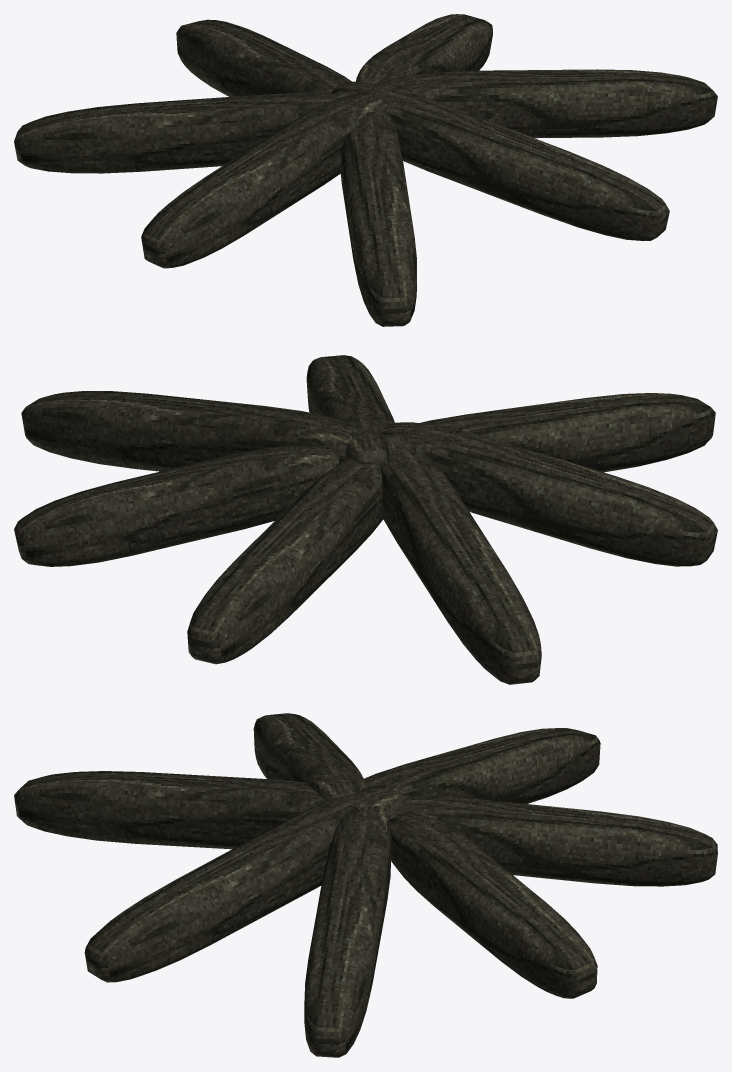
The model's file is Campfire.glb.
The picture shows the model from 3 angles, top to bottom: view 1: azimuth 30°, elevation 25°; view 2: azimuth 150°, elevation 25°; view 3: azimuth 270°, elevation 25°; orthographic projection. The views are drawn at different scales.
Parts seen in each view (by area): view 1: Cube.007; view 2: Cube.007; view 3: Cube.007.
Boxes of the visible parts, x1,y1,x2,y2 form: Cube.007: (14,14,717,326); Cube.007: (14,355,717,684); Cube.007: (14,713,717,1057).
Bounding box in the file's own units: 1.69 × 0.2721 × 1.65.
Materials: 1 (1 with a texture image).
